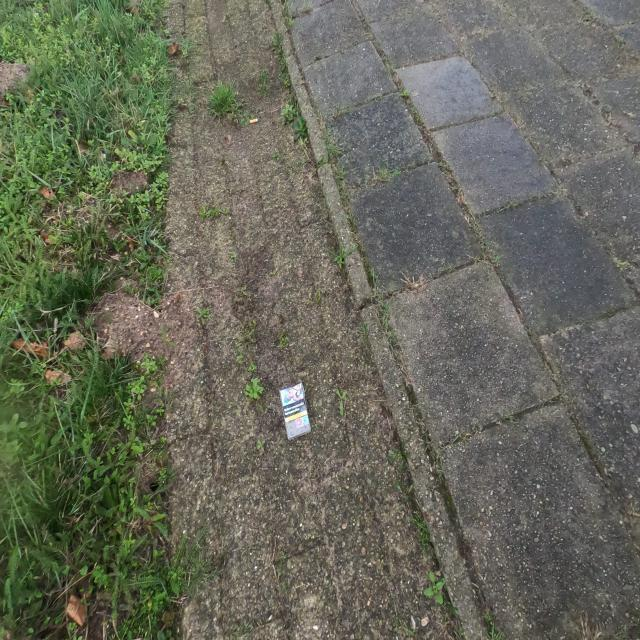Paper: (278, 382, 312, 442)
